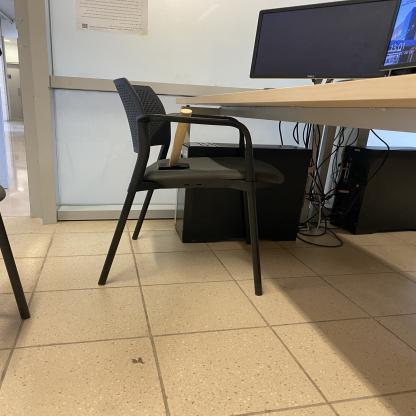Hammer: (157, 107, 193, 170)
